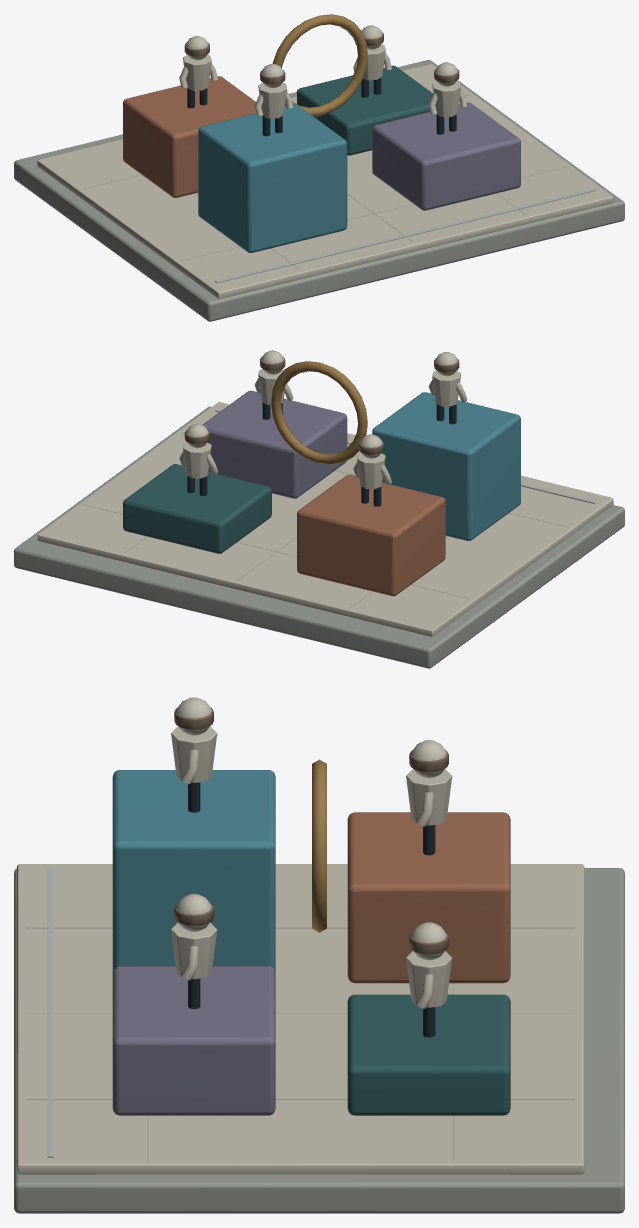
File: idea-d7966daa.glb
3 renders of one model, top to bottom at view 1: azimuth 30°, elevation 25°; view 2: azimuth 150°, elevation 25°; view 3: azimuth 270°, elevation 25°, orthographic. The views are drawn at different scales.
Visible parts, largest first — view 1: “4 Log” Reference Classes; view 2: “4 Log” Reference Classes; view 3: “4 Log” Reference Classes.
Part boxes in pixels (x1,y1,x2,y2): “4 Log” Reference Classes: (14,14,624,321); “4 Log” Reference Classes: (14,350,624,668); “4 Log” Reference Classes: (14,697,624,1213).
Size of the model in its own units: 4.8 by 2.05 by 3.9.
